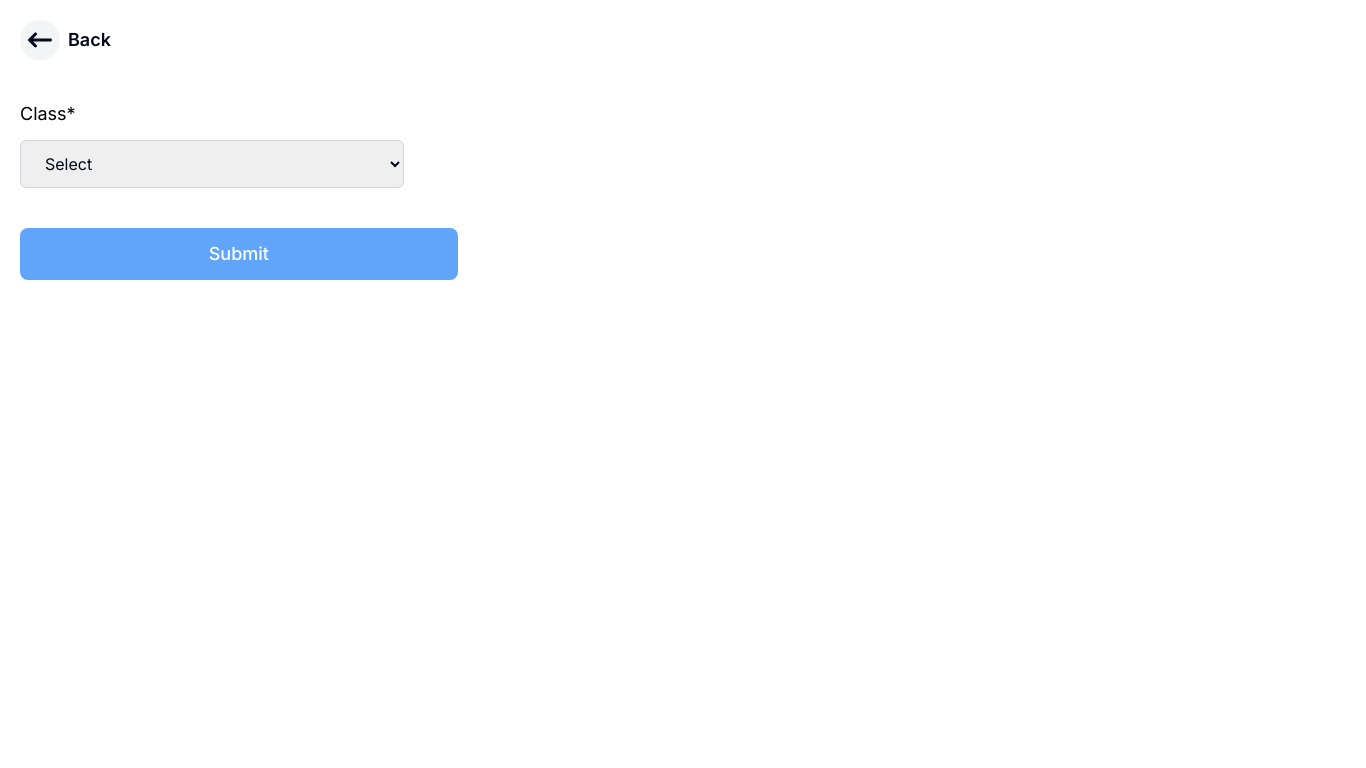
AddClass Component › displays success modal on successful submission
The width and height of the screenshot is (1366, 768).
Select "2" in the dropdown at (212,164), box top-left (20, 140), bottom-right (404, 188)
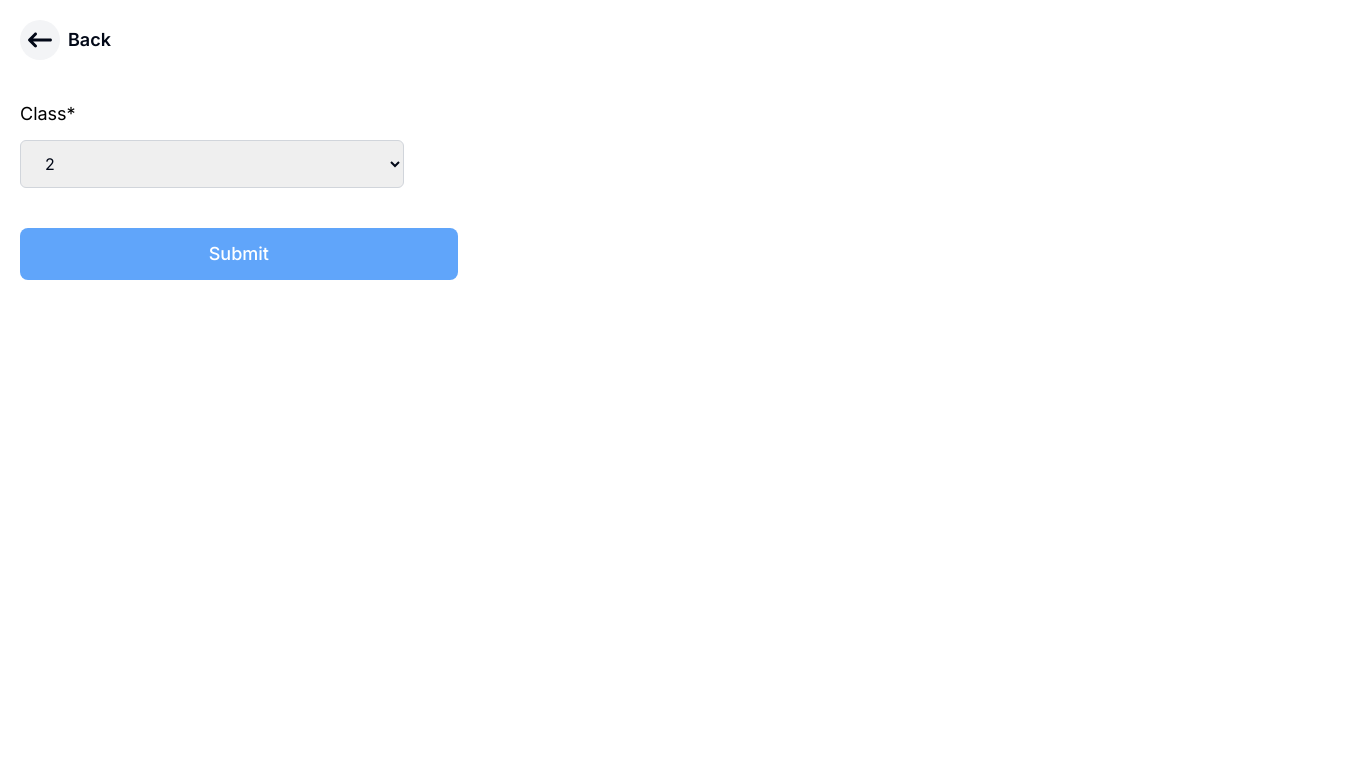
Click the button "Submit" at (239,254), box top-left (20, 228), bottom-right (458, 280)
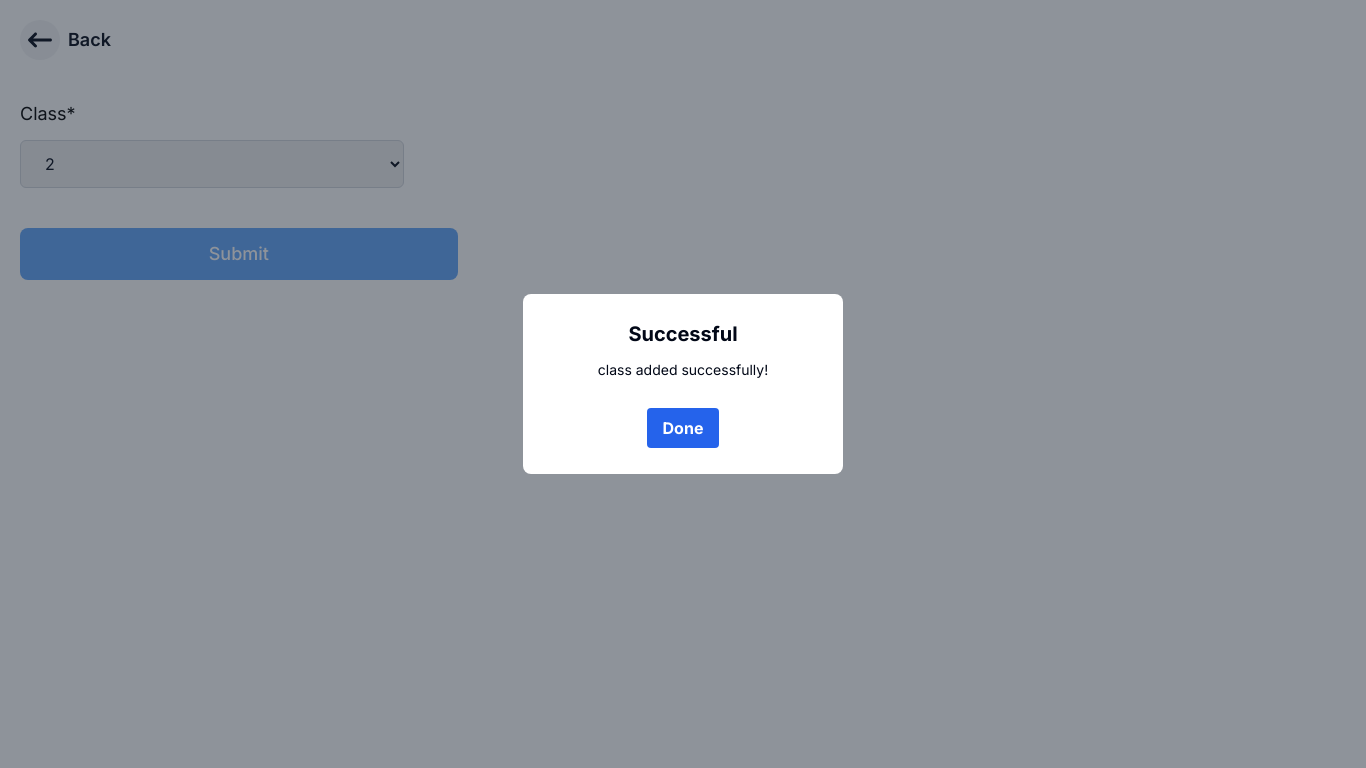
Expected: the heading "class added successfully!" is shown, top-left (598, 360), bottom-right (768, 380)
